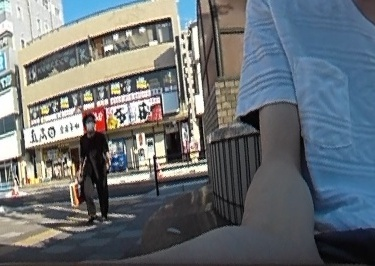person: (77, 110, 111, 220)
